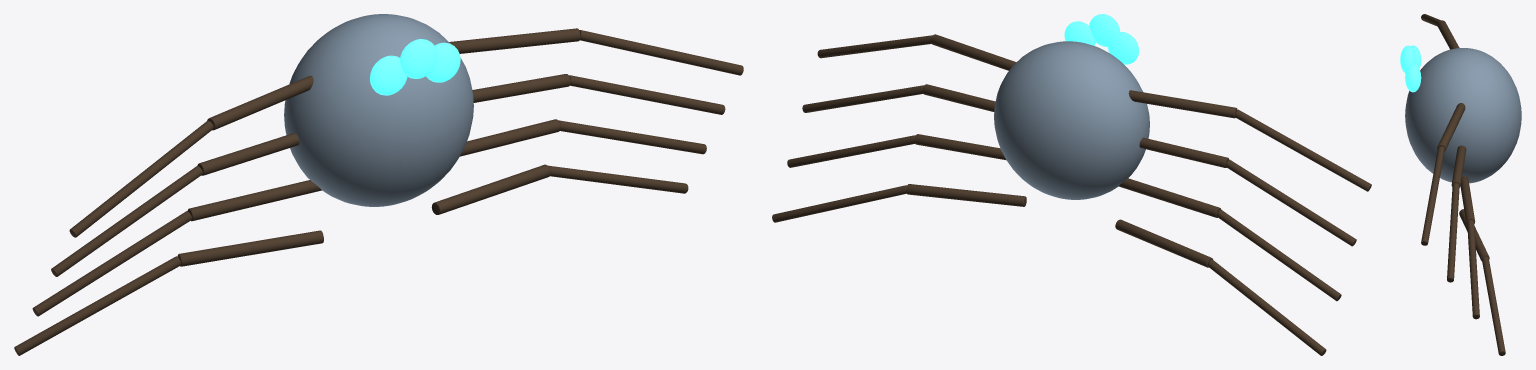
File: arachnid_v8.glb
The picture shows the model from 3 angles, left to right: view 1: azimuth 30°, elevation 25°; view 2: azimuth 150°, elevation 25°; view 3: azimuth 270°, elevation 25°; orthographic projection. The views are drawn at different scales.
Visible parts, largest first — view 1: HARVESTMAN_BODY_PRIMARY, ARACHNID_LOWER_LEG_SECONDARY.006, ARACHNID_UPPER_LEG_SECONDARY.006, ARACHNID_LOWER_LEG_SECONDARY.004, ARACHNID_LOWER_LEG_SECONDARY.002, ARACHNID_LOWER_LEG_SECONDARY, ARACHNID_LOWER_LEG_SECONDARY.001, ARACHNID_UPPER_LEG_SECONDARY.004, ARACHNID_UPPER_LEG_SECONDARY.001, ARACHNID_LOWER_LEG_SECONDARY.003, ARACHNID_UPPER_LEG_SECONDARY.007, ARACHNID_LOWER_LEG_SECONDARY.005 (+8 smaller); view 2: HARVESTMAN_BODY_PRIMARY, ARACHNID_LOWER_LEG_SECONDARY, ARACHNID_UPPER_LEG_SECONDARY.007, ARACHNID_LOWER_LEG_SECONDARY.002, ARACHNID_LOWER_LEG_SECONDARY.004, ARACHNID_LOWER_LEG_SECONDARY.006, ARACHNID_LOWER_LEG_SECONDARY.007, ARACHNID_UPPER_LEG_SECONDARY, ARACHNID_LOWER_LEG_SECONDARY.005, ARACHNID_UPPER_LEG_SECONDARY.006, ARACHNID_UPPER_LEG_SECONDARY.004, ARACHNID_LOWER_LEG_SECONDARY.003 (+8 smaller); view 3: HARVESTMAN_BODY_PRIMARY, ARACHNID_LOWER_LEG_SECONDARY.001, ARACHNID_LOWER_LEG_SECONDARY.007, ARACHNID_LOWER_LEG_SECONDARY.005, ARACHNID_LOWER_LEG_SECONDARY.003, ARACHNID_UPPER_LEG_SECONDARY.001, ARACHNID_UPPER_LEG_SECONDARY.005, EYE_EMISSIVE.002, ARACHNID_UPPER_LEG_SECONDARY.003, ARACHNID_UPPER_LEG_SECONDARY.007, EYE_EMISSIVE.001, ARACHNID_UPPER_LEG_SECONDARY (+2 smaller).
Boxes of the visible parts, box(x1,y1,x2,y2) form: HARVESTMAN_BODY_PRIMARY: box(284, 14, 473, 206); ARACHNID_LOWER_LEG_SECONDARY.006: box(14, 256, 180, 355); ARACHNID_UPPER_LEG_SECONDARY.006: box(177, 230, 323, 266); ARACHNID_LOWER_LEG_SECONDARY.004: box(32, 211, 191, 316); ARACHNID_LOWER_LEG_SECONDARY.002: box(51, 166, 202, 276); ARACHNID_LOWER_LEG_SECONDARY: box(69, 120, 213, 237); ARACHNID_LOWER_LEG_SECONDARY.001: box(579, 30, 743, 75); ARACHNID_UPPER_LEG_SECONDARY.004: box(187, 180, 321, 221); ARACHNID_UPPER_LEG_SECONDARY.001: box(449, 28, 580, 53); ARACHNID_LOWER_LEG_SECONDARY.003: box(569, 75, 725, 114); ARACHNID_UPPER_LEG_SECONDARY.007: box(431, 164, 550, 214); ARACHNID_LOWER_LEG_SECONDARY.005: box(558, 120, 706, 154); HARVESTMAN_BODY_PRIMARY: box(994, 41, 1149, 199); ARACHNID_LOWER_LEG_SECONDARY: box(1235, 109, 1371, 191); ARACHNID_UPPER_LEG_SECONDARY.007: box(906, 184, 1026, 206); ARACHNID_LOWER_LEG_SECONDARY.002: box(1225, 160, 1356, 246); ARACHNID_LOWER_LEG_SECONDARY.004: box(1216, 209, 1341, 301); ARACHNID_LOWER_LEG_SECONDARY.006: box(1207, 259, 1326, 355); ARACHNID_LOWER_LEG_SECONDARY.007: box(772, 185, 907, 222); ARACHNID_UPPER_LEG_SECONDARY: box(1128, 90, 1237, 118); ARACHNID_LOWER_LEG_SECONDARY.005: box(787, 135, 915, 167); ARACHNID_UPPER_LEG_SECONDARY.006: box(1115, 219, 1213, 267); ARACHNID_UPPER_LEG_SECONDARY.004: box(1118, 178, 1221, 217); ARACHNID_LOWER_LEG_SECONDARY.003: box(802, 85, 923, 112); HARVESTMAN_BODY_PRIMARY: box(1405, 48, 1521, 183); ARACHNID_LOWER_LEG_SECONDARY.001: box(1421, 146, 1444, 245); ARACHNID_LOWER_LEG_SECONDARY.007: box(1482, 256, 1505, 355); ARACHNID_LOWER_LEG_SECONDARY.005: box(1467, 220, 1479, 319); ARACHNID_LOWER_LEG_SECONDARY.003: box(1447, 183, 1459, 282); ARACHNID_UPPER_LEG_SECONDARY.001: box(1437, 103, 1465, 151); ARACHNID_UPPER_LEG_SECONDARY.005: box(1460, 176, 1475, 223); EYE_EMISSIVE.002: box(1405, 63, 1421, 92); ARACHNID_UPPER_LEG_SECONDARY.003: box(1451, 145, 1466, 187); ARACHNID_UPPER_LEG_SECONDARY.007: box(1459, 209, 1489, 260); EYE_EMISSIVE.001: box(1400, 45, 1416, 73); ARACHNID_UPPER_LEG_SECONDARY: box(1437, 20, 1459, 49).
Size of the model in its own units: 3.31 by 1.34 by 0.75.
